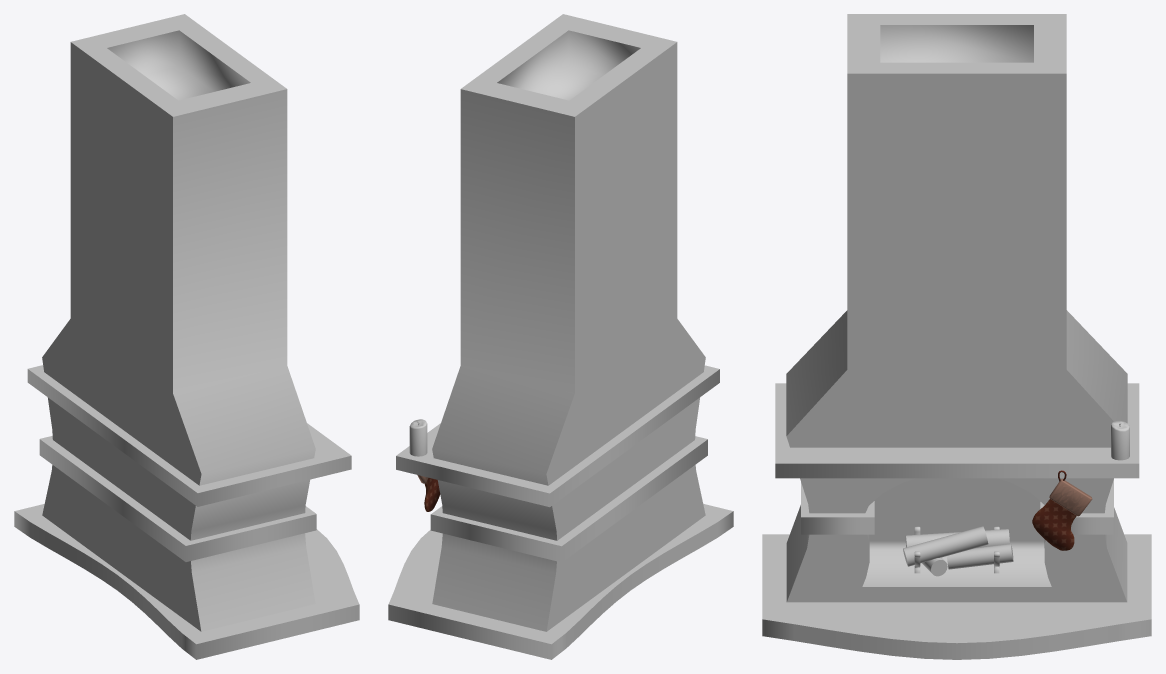
Rendered from fireplace.fbx.
3 renders of one model, left to right at view 1: azimuth 30°, elevation 25°; view 2: azimuth 150°, elevation 25°; view 3: azimuth 270°, elevation 25°, orthographic. The views are drawn at different scales.
Visible parts, largest first — view 1: fireplace_fireplace.004_0; view 2: fireplace_fireplace.004_0, candle_fireplace.004_0; view 3: fireplace_fireplace.004_0, christmasSock_christmasPresents.004_0, candle_fireplace.004_0.
Part boxes in pixels (x1,y1,x2,y2): fireplace_fireplace.004_0: (14,14,359,659); fireplace_fireplace.004_0: (388,14,733,659); candle_fireplace.004_0: (409,419,427,456); fireplace_fireplace.004_0: (762,14,1151,659); christmasSock_christmasPresents.004_0: (1032,470,1092,550); candle_fireplace.004_0: (1111,420,1129,460).
Bounding box in the file's own units: 508 × 1186 × 766.
